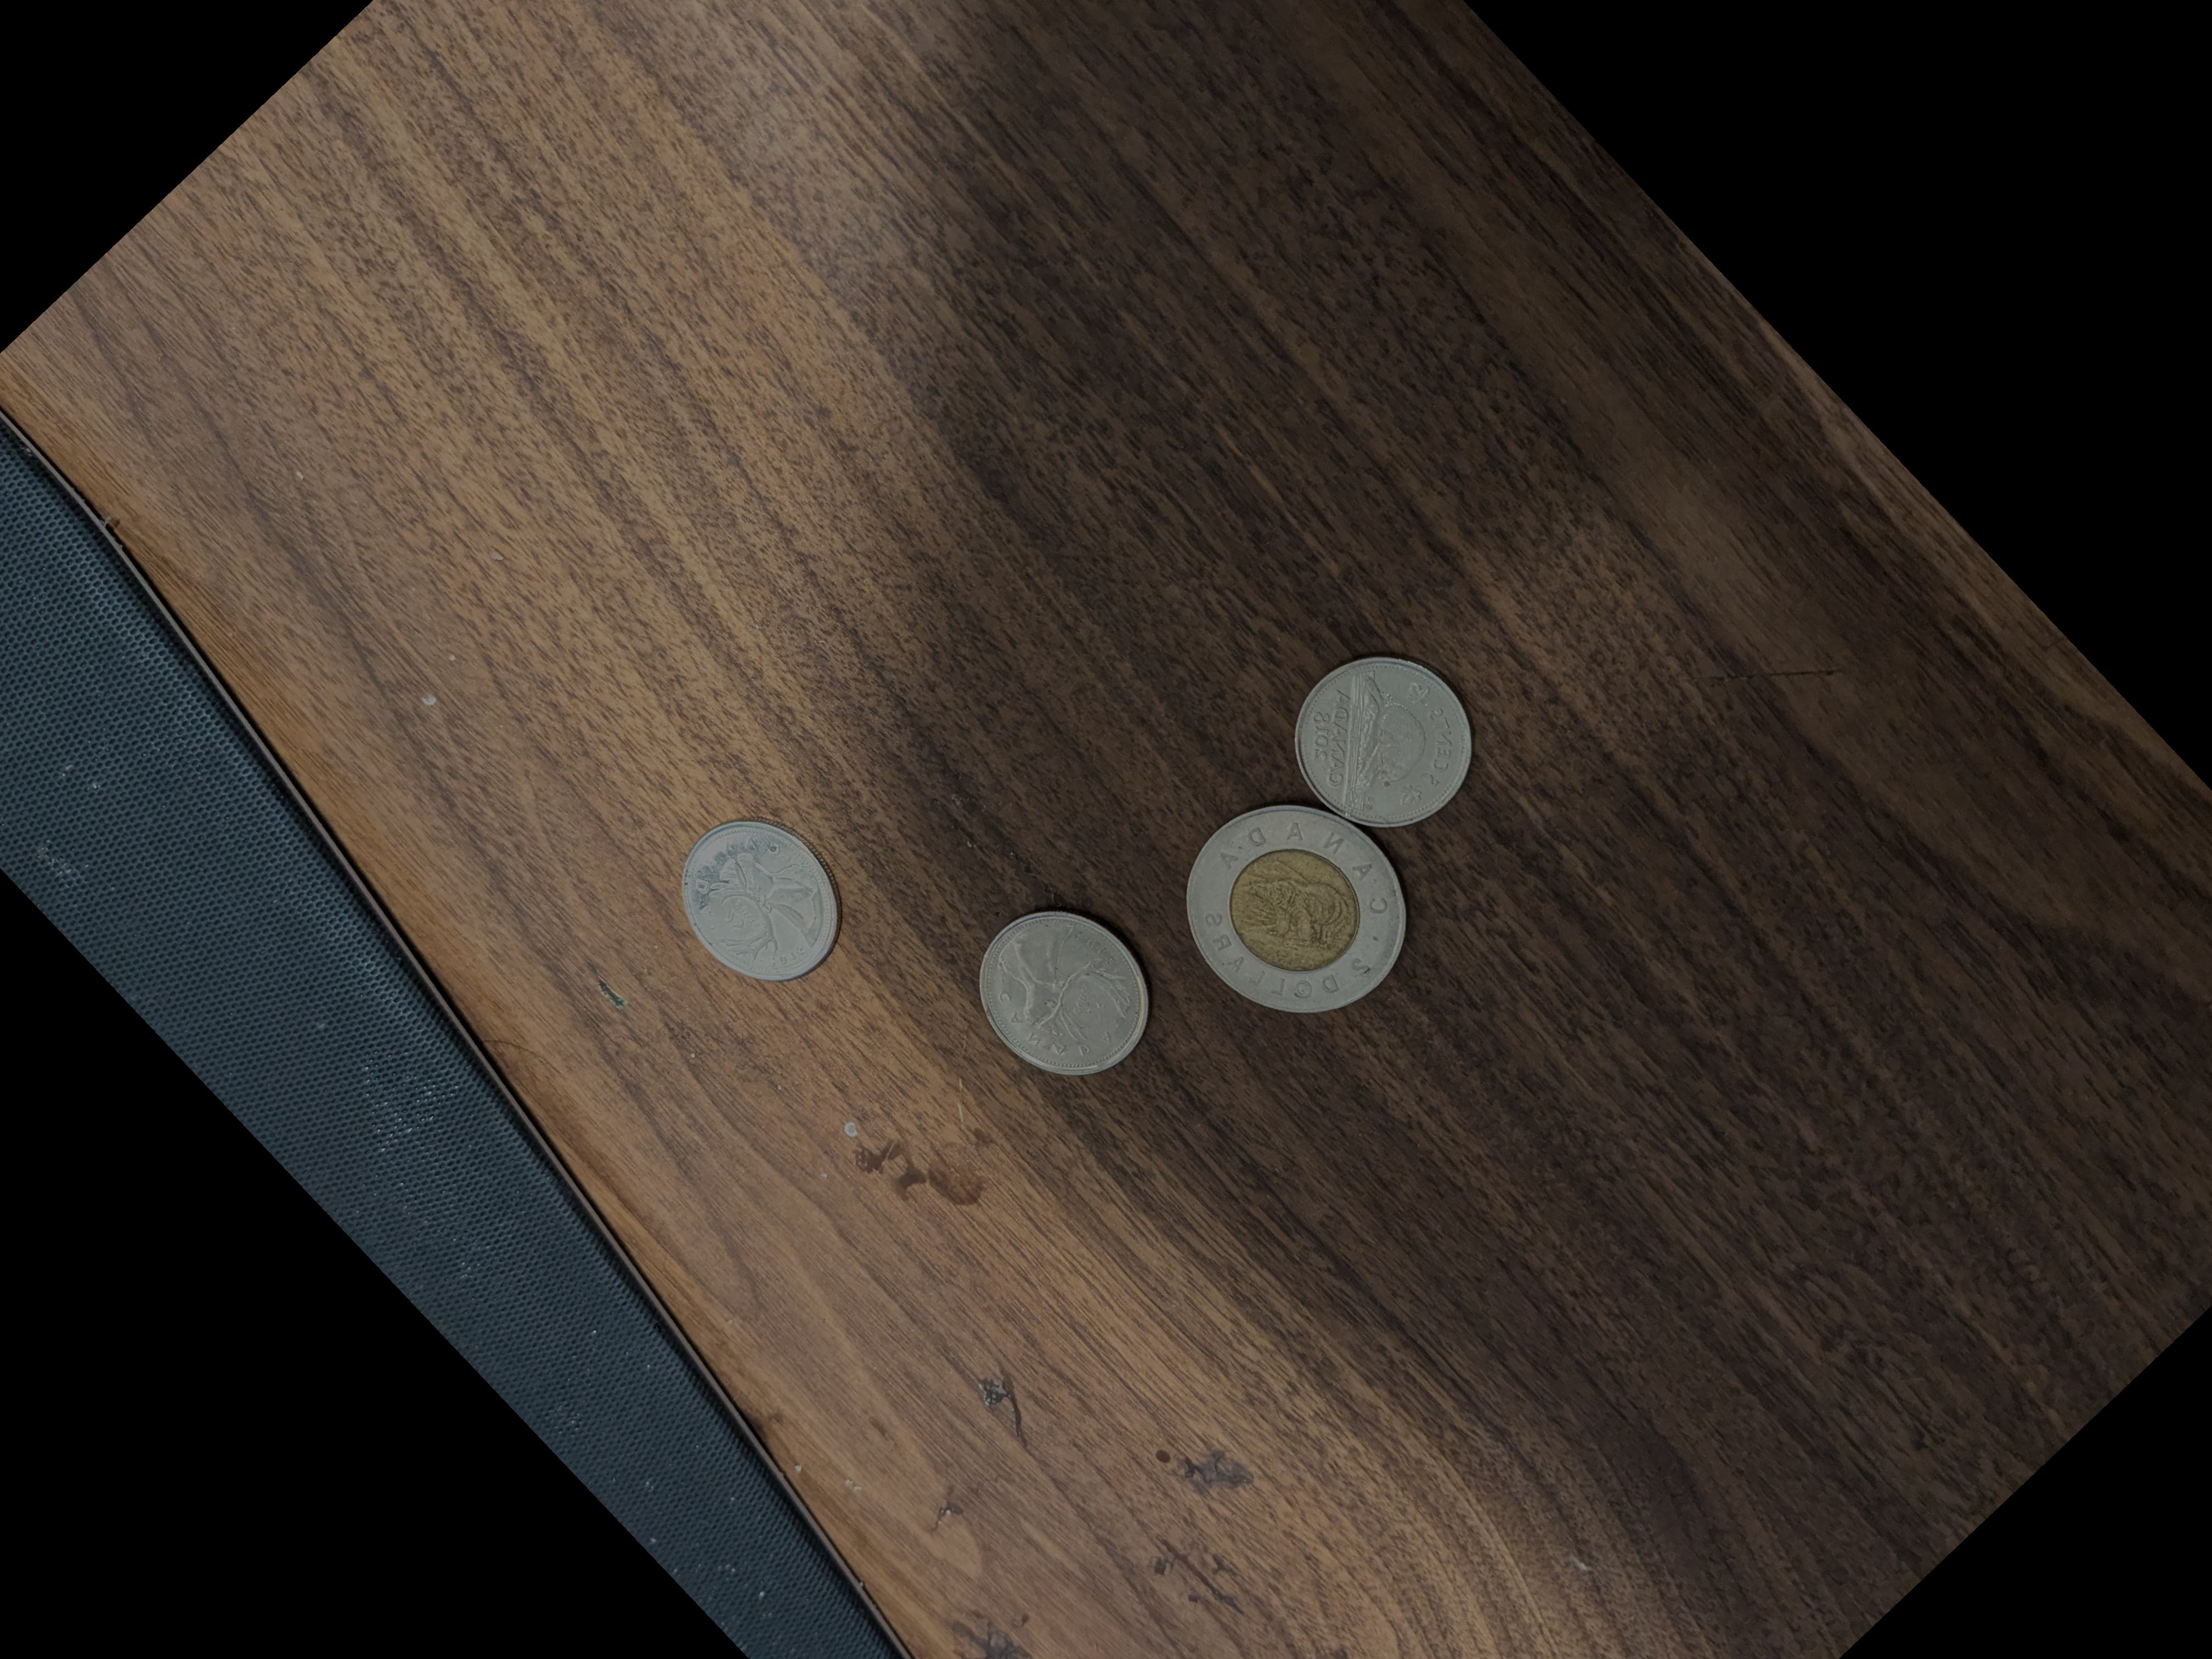nickel: (1282, 653, 1486, 835)
quarter: (669, 817, 852, 995), (975, 908, 1157, 1072)
toonie: (1184, 809, 1407, 1009)
